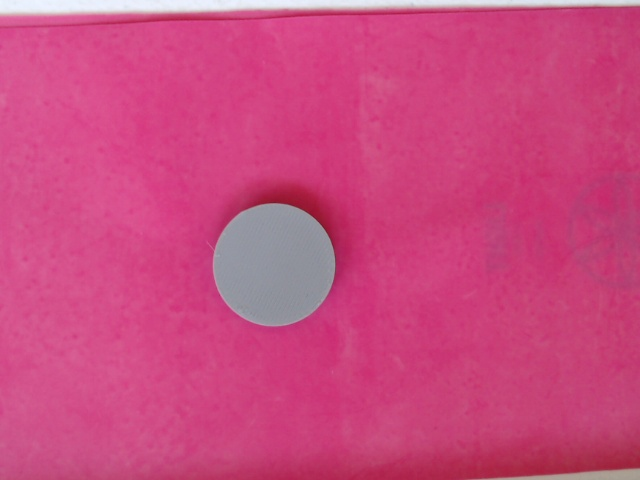NonDefective: (211, 200, 339, 330)
